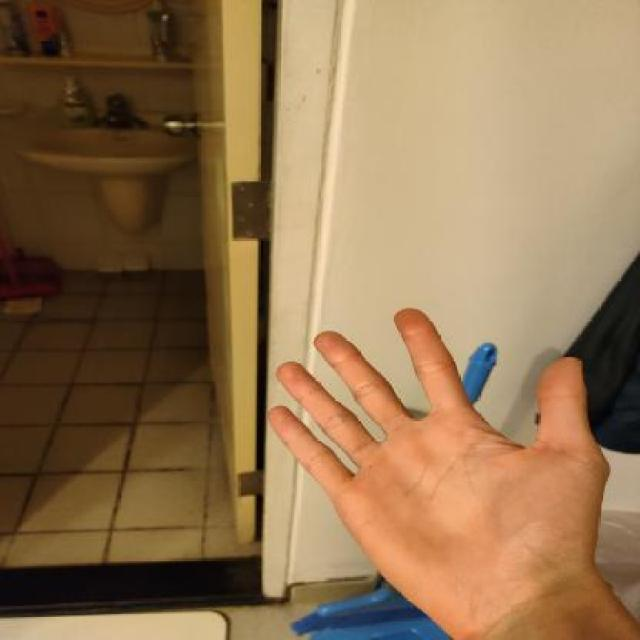bare_hand: (258, 298, 618, 632)
